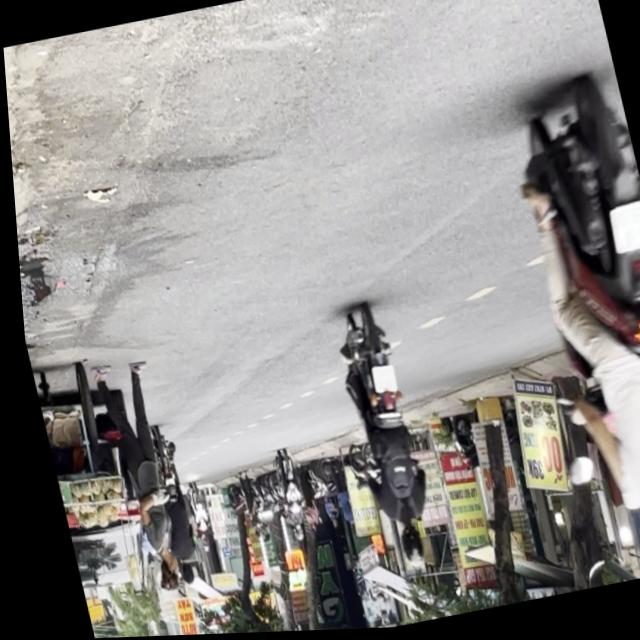helmet: (388, 522, 421, 572)
licenseplate: (493, 75, 640, 591), (319, 301, 438, 576)
motorcyclist: (637, 497, 640, 578)
nohelmet: (605, 207, 640, 259), (364, 366, 392, 396)
